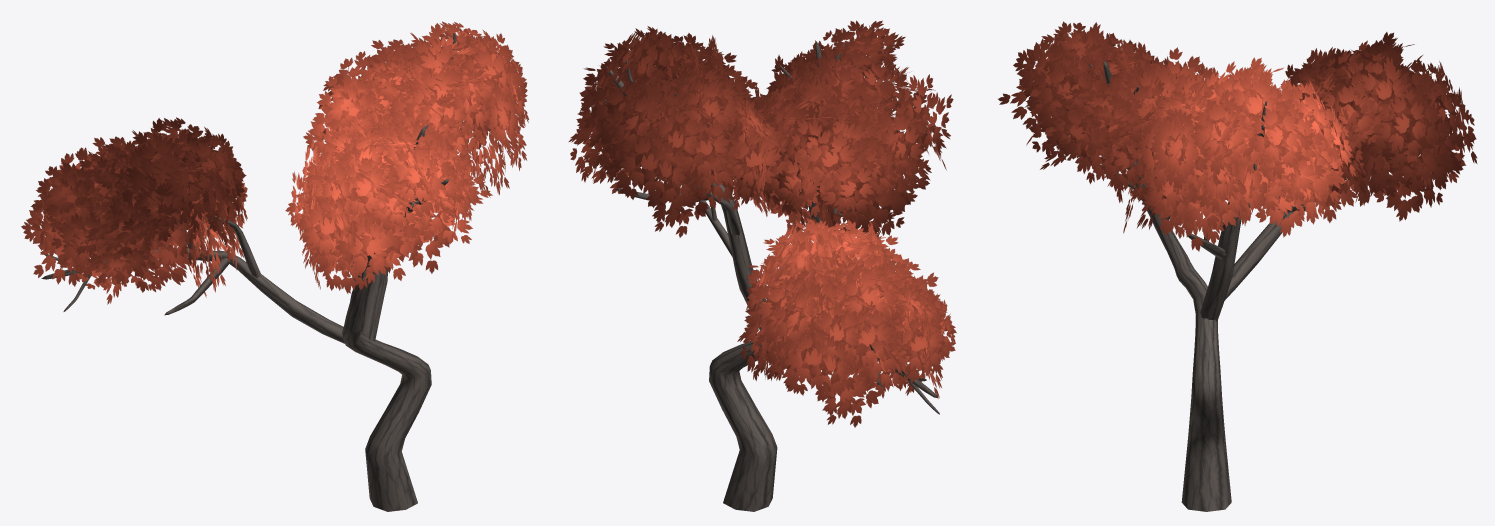
Rendered from MapleTree_2.gltf.
3 views of the same model, side by side, from view 1: azimuth 30°, elevation 25°; view 2: azimuth 150°, elevation 25°; view 3: azimuth 270°, elevation 25° (orthographic). The views are drawn at different scales.
Visible parts, largest first — view 1: MapleTree_2; view 2: MapleTree_2; view 3: MapleTree_2.
Boxes of the visible parts, box(x1,y1,x2,y2) form: MapleTree_2: box(21, 21, 529, 511); MapleTree_2: box(568, 20, 956, 511); MapleTree_2: box(998, 21, 1477, 511).
Bounding box in the file's own units: 6.7 × 6.71 × 6.24.
2 materials, 2 textured.
